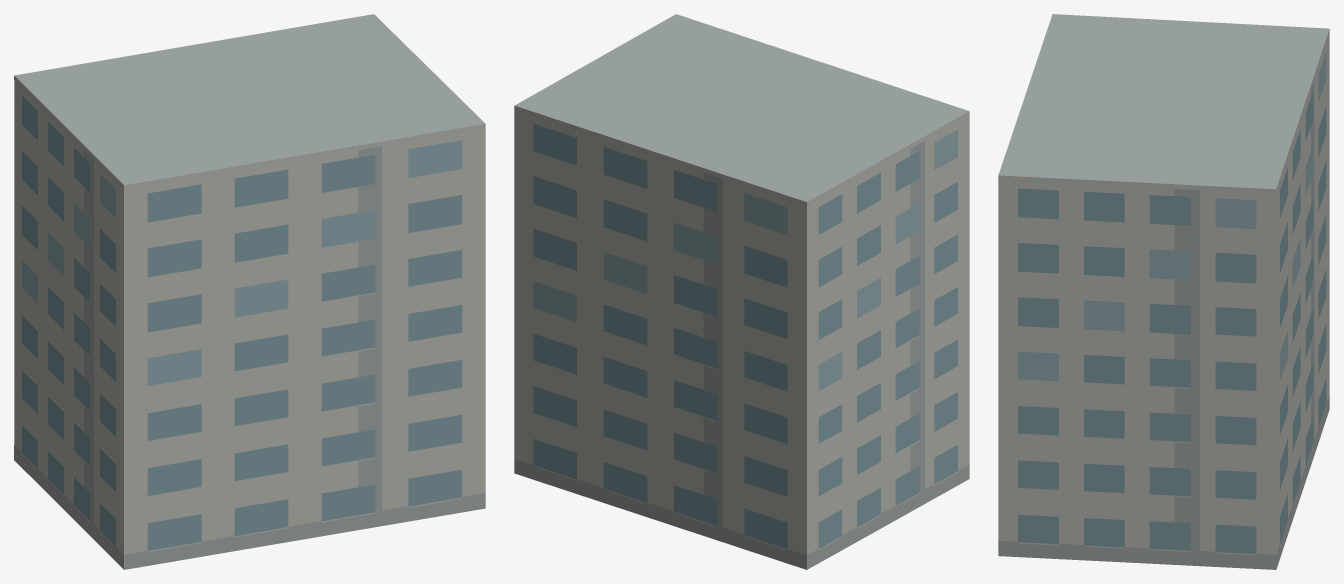
The model's file is survey-upis-33021264.glb.
The picture shows the model from 3 angles, left to right: view 1: azimuth 30°, elevation 25°; view 2: azimuth 150°, elevation 25°; view 3: azimuth 270°, elevation 25°; orthographic projection. The views are drawn at different scales.
Parts seen in each view (by area): view 1: survey-upis-33021264.tmp; view 2: survey-upis-33021264.tmp; view 3: survey-upis-33021264.tmp.
Part boxes in pixels (x1,y1,x2,y2): survey-upis-33021264.tmp: (14,14,485,569); survey-upis-33021264.tmp: (514,14,969,569); survey-upis-33021264.tmp: (998,14,1329,569).
Bounding box in the file's own units: 19.76 × 20 × 15.79.
